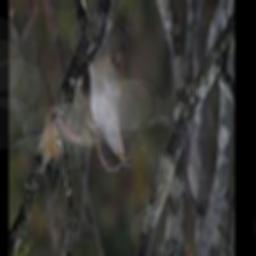Cuckoo: (70, 0, 133, 172)
